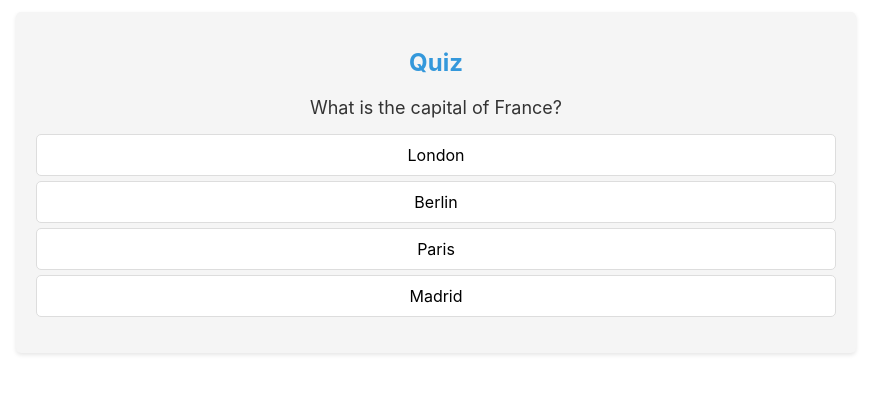
Test case: App › For Second Question › when_user_chooses_the_option_incorrectly
Answer the questions
Click the list item "Paris": (436, 249) [36, 228, 836, 270]
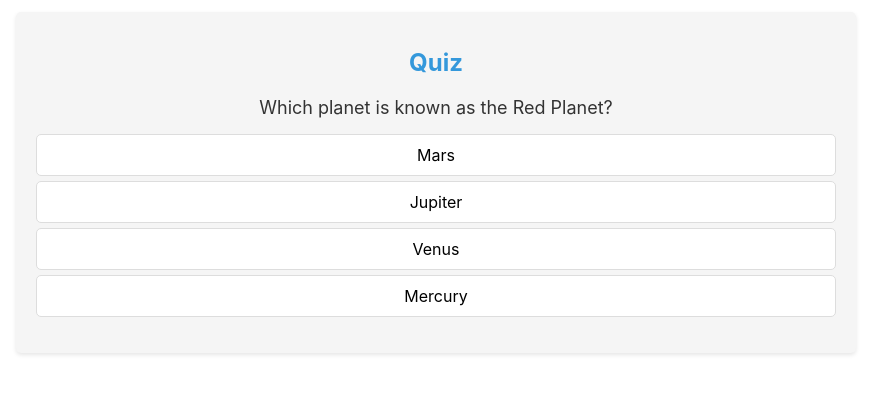
Click the list item "Jupiter": (436, 202) [36, 181, 836, 223]
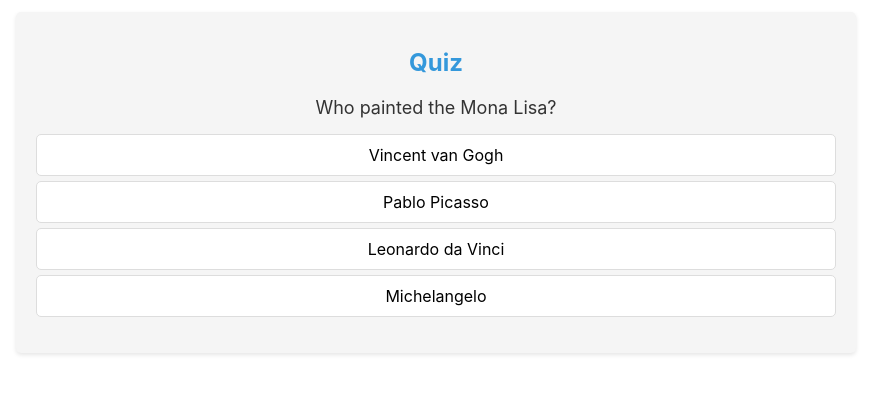
Click the list item "Leonardo da Vinci": (436, 249) [36, 228, 836, 270]
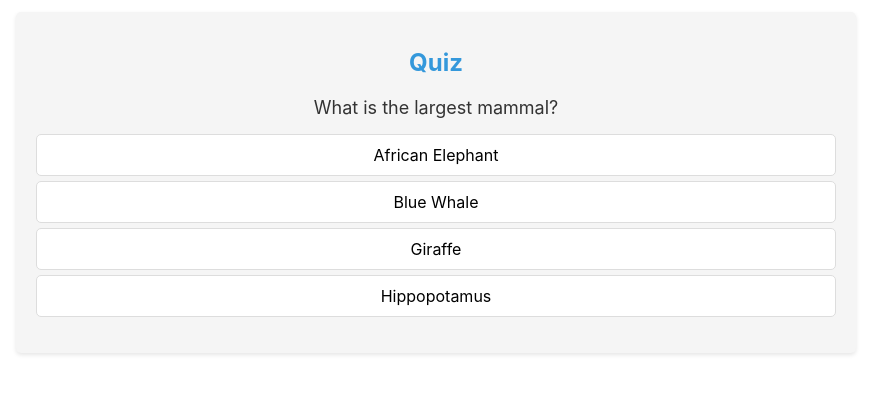
Click the list item "Blue Whale": (436, 202) [36, 181, 836, 223]
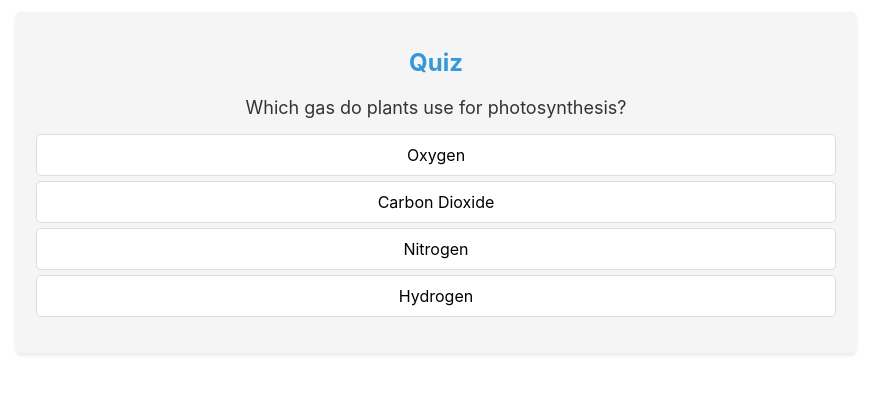
Click the list item "Carbon Dioxide": (436, 202) [36, 181, 836, 223]
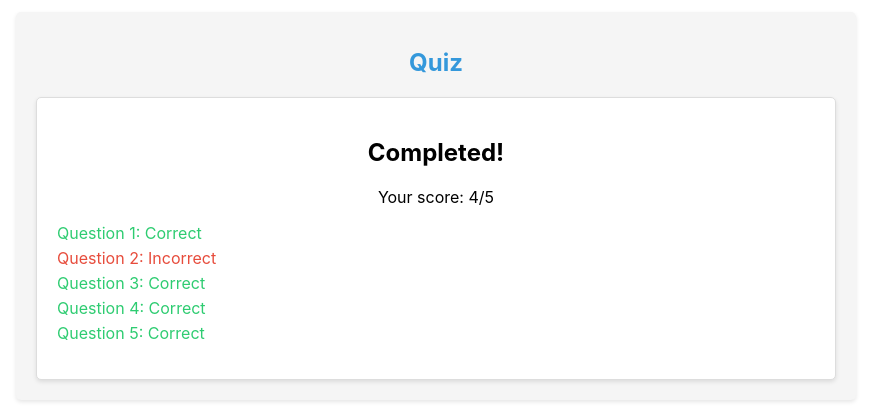
Expected: the heading "Completed!" is shown, [368, 138, 504, 167]
Expected: the text "Your score: 4/5" is shown, [378, 187, 494, 207]
Expected: the list item "Question 1: Correct" is shown, [57, 223, 202, 243]
